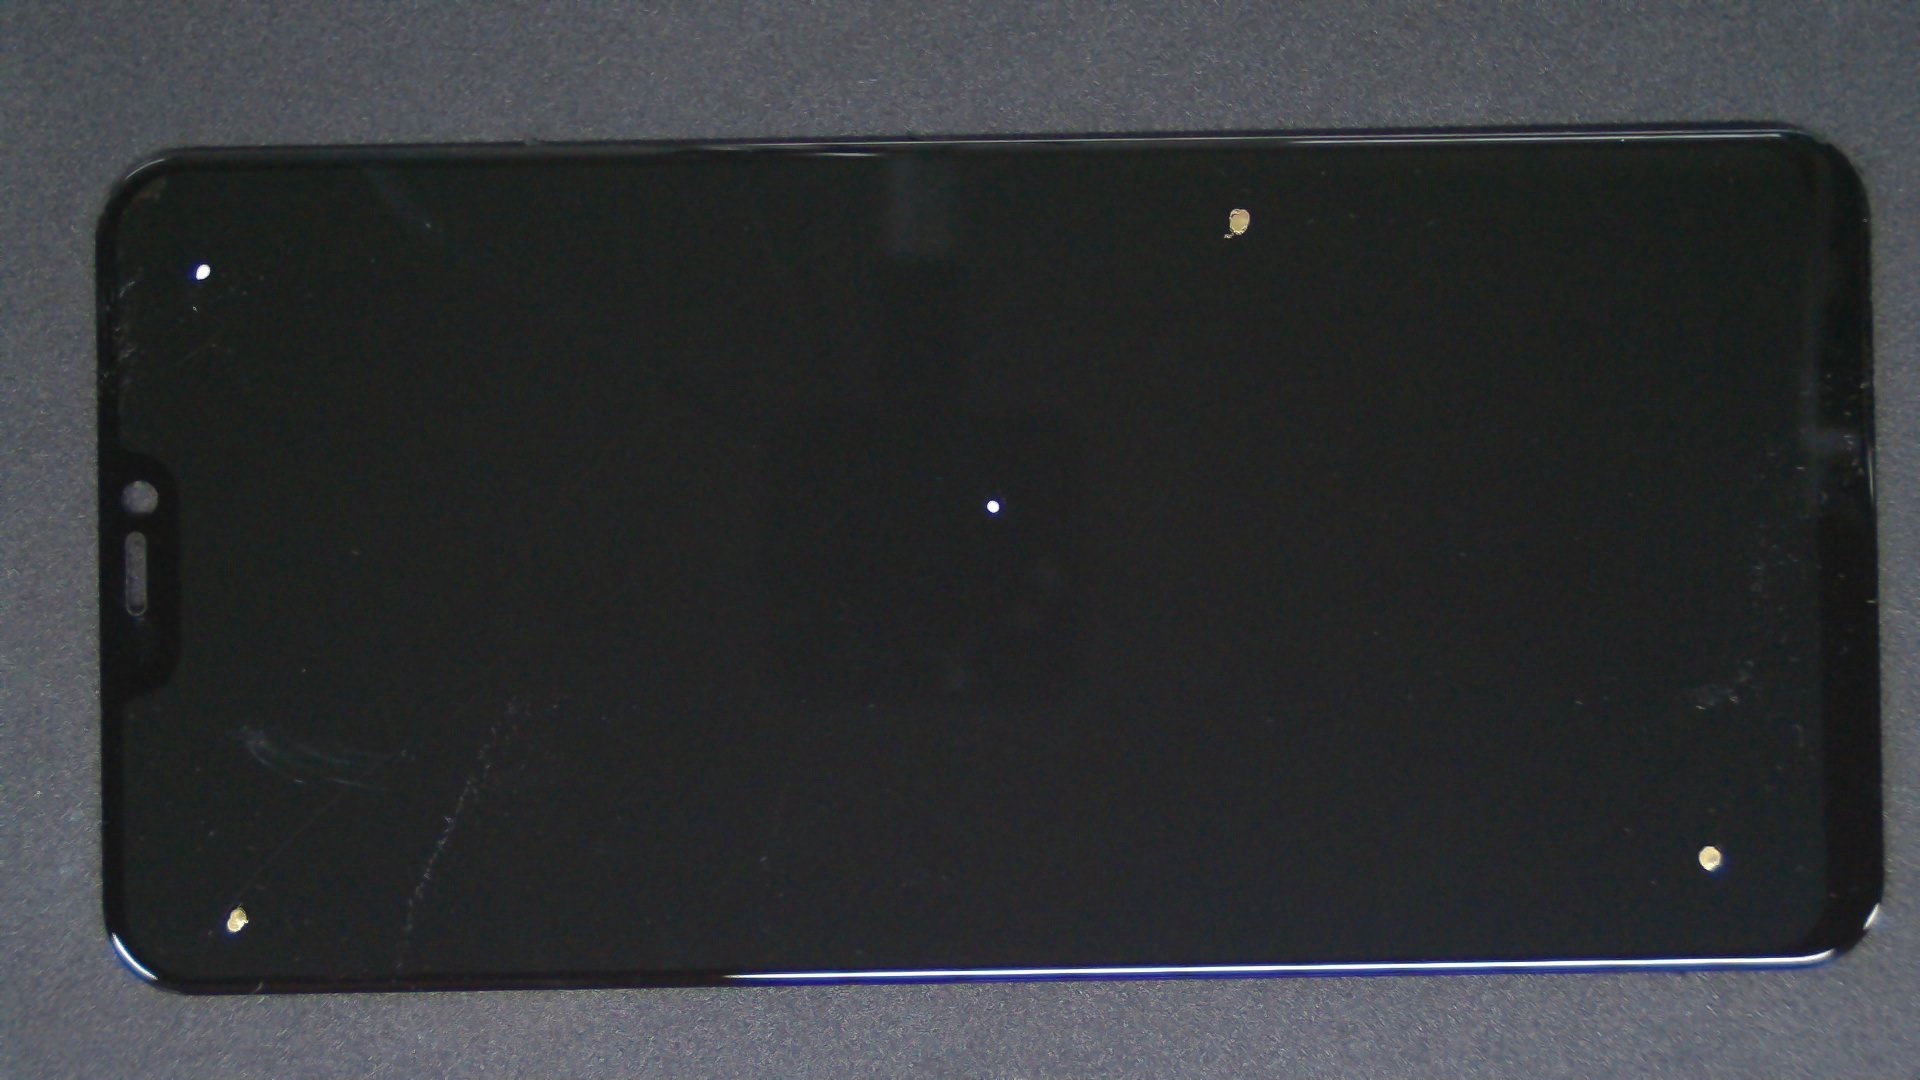oil: (857, 421, 1920, 1080), (498, 247, 1482, 750), (618, 103, 1854, 310), (120, 452, 356, 1080), (104, 131, 310, 392)
